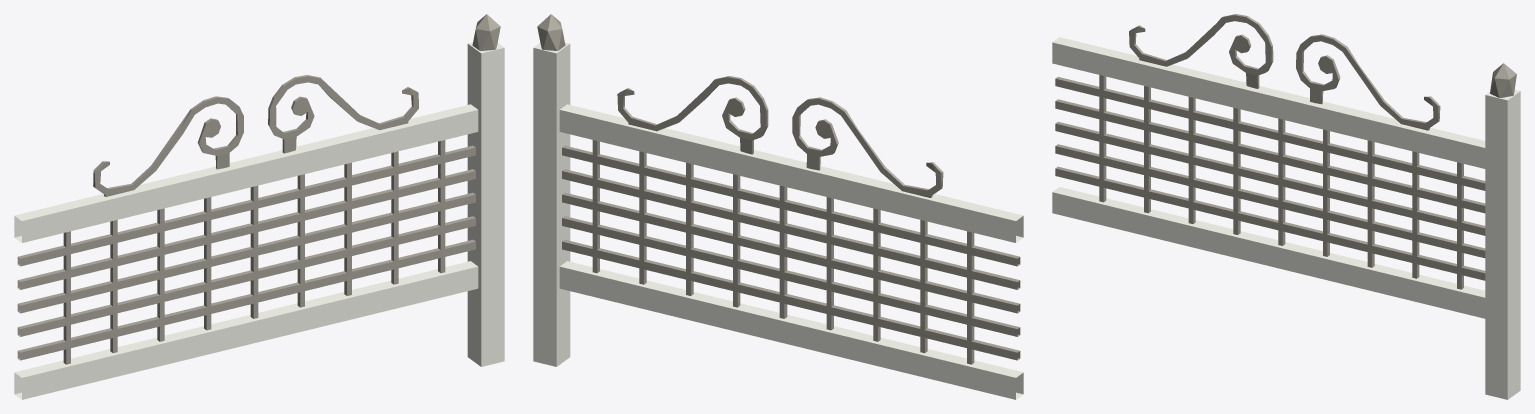
File: Fence_Low_A.fbx
3 views of the same model, side by side, from view 1: azimuth 30°, elevation 25°; view 2: azimuth 150°, elevation 25°; view 3: azimuth 330°, elevation 25° (orthographic). The views are drawn at different scales.
Visible parts, largest first — view 1: Fence_Low_A; view 2: Fence_Low_A; view 3: Fence_Low_A.
Boxes of the visible parts, x1=… form: Fence_Low_A: x1=14, y1=14, x2=504, y2=399; Fence_Low_A: x1=533, y1=14, x2=1023, y2=399; Fence_Low_A: x1=1052, y1=14, x2=1520, y2=399.
Size of the model in its own units: 103 by 70.44 by 5.
